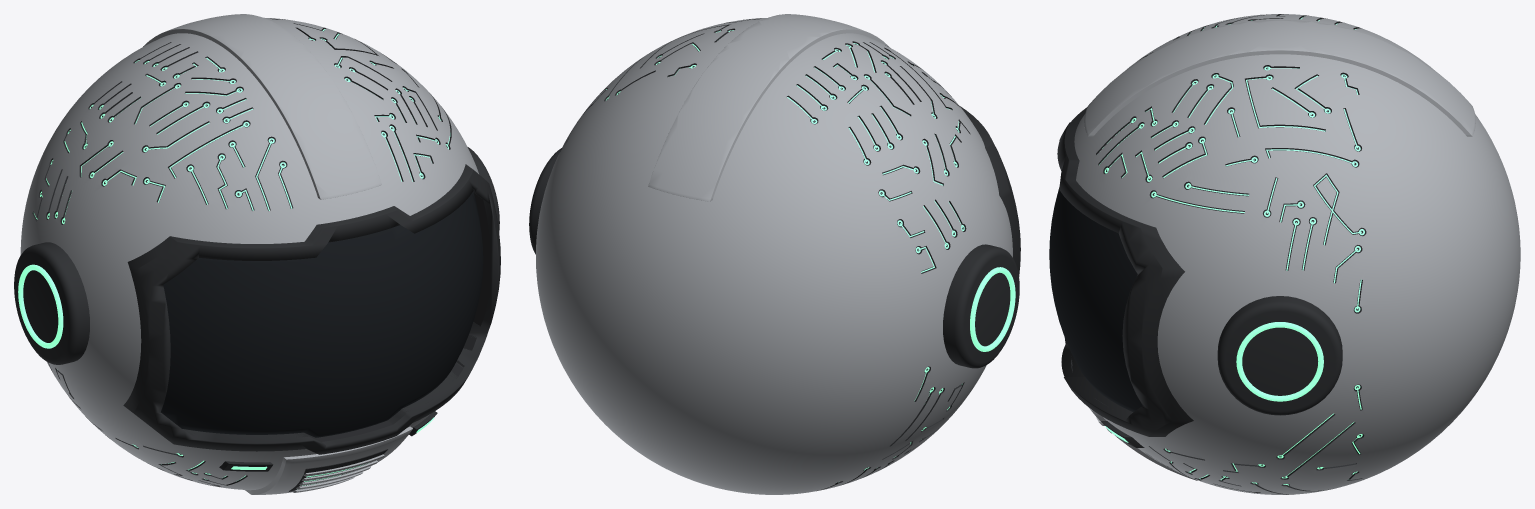
File: casco.glb
The picture shows the model from 3 angles, left to right: view 1: azimuth 30°, elevation 25°; view 2: azimuth 150°, elevation 25°; view 3: azimuth 270°, elevation 25°; orthographic projection.
Parts seen in each view (by area): view 1: Cabeza, Pantalla, MarcoVisor, PlacaSuperior, Auricular_I, Circuito, Menton, LedAuricular_I, Ventila; view 2: Cabeza, PlacaSuperior, Auricular_I, Circuito, MarcoVisor, LedAuricular_I, Auricular_D; view 3: Cabeza, PlacaSuperior, MarcoVisor, Pantalla, Auricular_D, Circuito, LedAuricular_D.
Boxes of the visible parts, left/top/right/bottom form: Cabeza: left=20, top=17, right=491, bottom=490; Pantalla: left=161, top=192, right=483, bottom=437; MarcoVisor: left=123, top=164, right=500, bottom=454; PlacaSuperior: left=143, top=14, right=381, bottom=199; Auricular_I: left=14, top=242, right=89, bottom=364; Circuito: left=34, top=29, right=450, bottom=481; Menton: left=245, top=426, right=412, bottom=494; LedAuricular_I: left=18, top=264, right=63, bottom=348; Ventila: left=289, top=449, right=387, bottom=491; Cabeza: left=536, top=18, right=1012, bottom=494; PlacaSuperior: left=648, top=14, right=889, bottom=201; Auricular_I: left=943, top=244, right=1019, bottom=368; Circuito: left=606, top=30, right=964, bottom=470; MarcoVisor: left=960, top=106, right=1020, bottom=276; LedAuricular_I: left=970, top=267, right=1015, bottom=351; Auricular_D: left=529, top=148, right=561, bottom=254; Cabeza: left=1071, top=14, right=1520, bottom=494; PlacaSuperior: left=1084, top=20, right=1475, bottom=136; MarcoVisor: left=1057, top=107, right=1193, bottom=436; Pantalla: left=1049, top=188, right=1142, bottom=412; Auricular_D: left=1217, top=296, right=1342, bottom=415; Circuito: left=1099, top=16, right=1364, bottom=485; LedAuricular_D: left=1236, top=322, right=1323, bottom=401.
Size of the model in its own units: 2.13 by 2.02 by 1.96.
